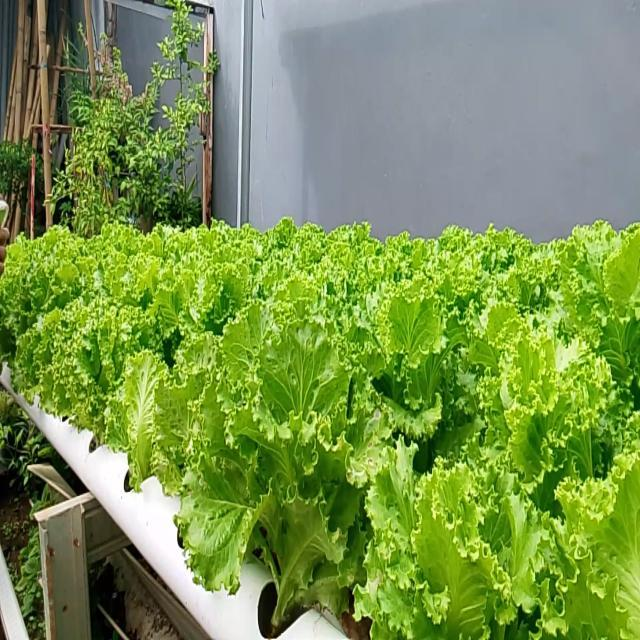Mature: (157, 308, 377, 639), (35, 292, 142, 456)
